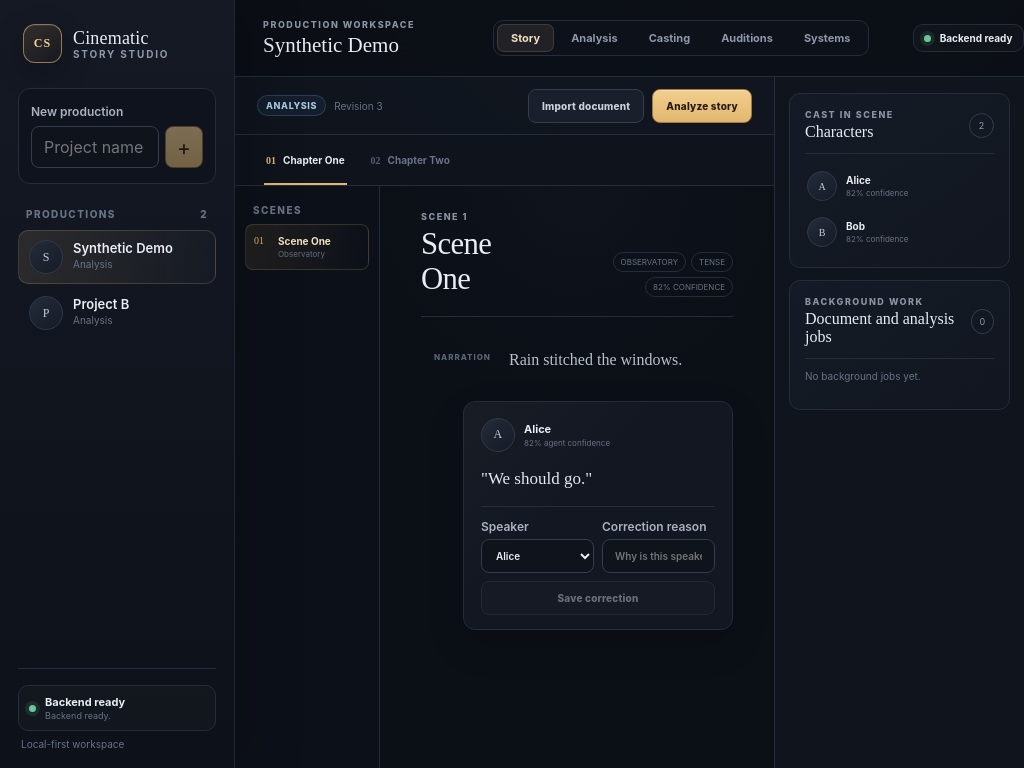
Scenario: Phase 0 desktop workspace › does not let a deferred project A response replace active project B
Expected: the text "\"We should go.\"" is shown, [481,469,592,488]
Click the button "S Synthetic Demo Analysis".
click(117, 257)  # box [18,230,216,284]
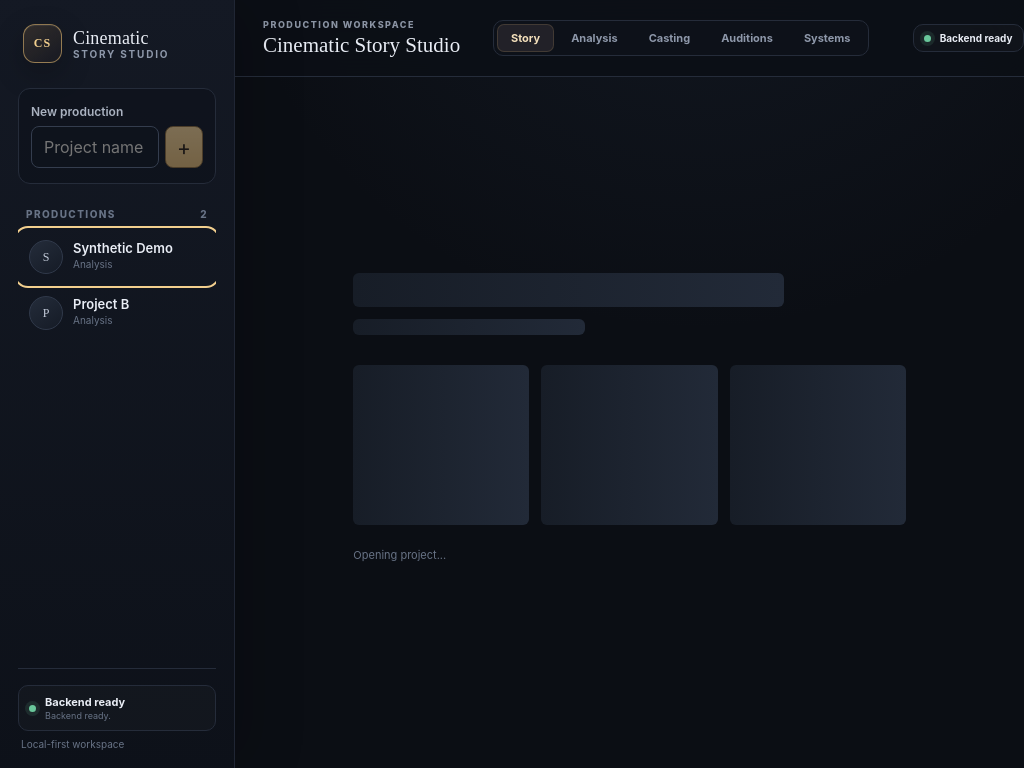
Click the button "P Project B Analysis".
click(117, 313)  # box [18,286,216,340]
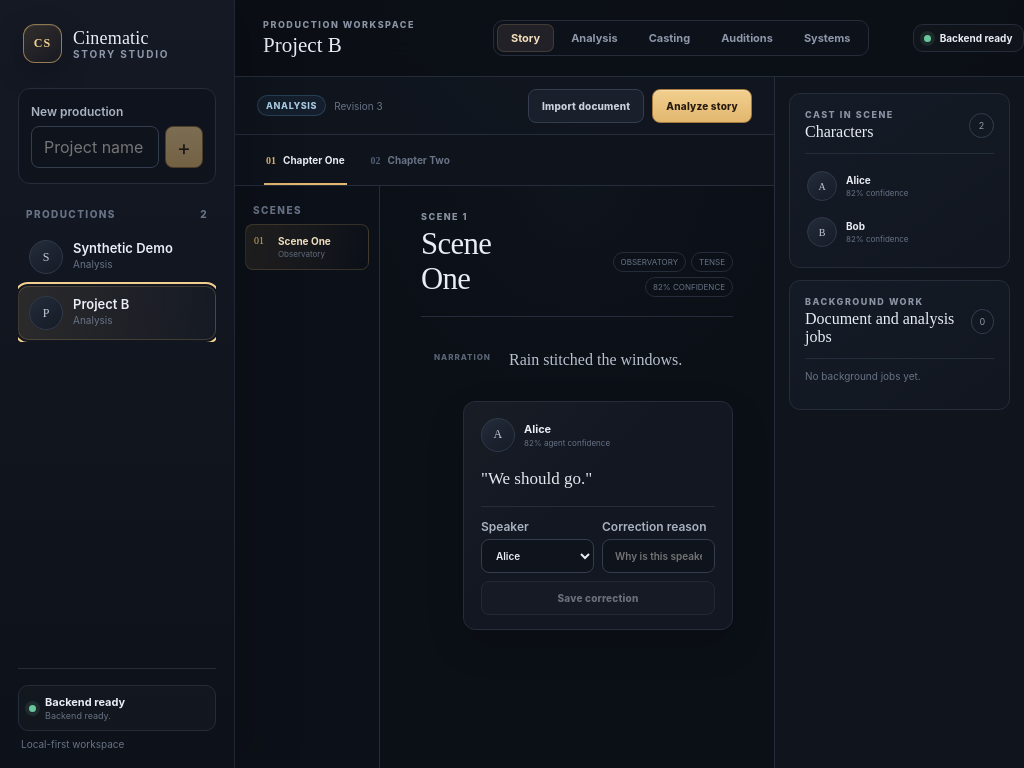
Result: the heading "Project B" is shown at [263,32,342,56]
